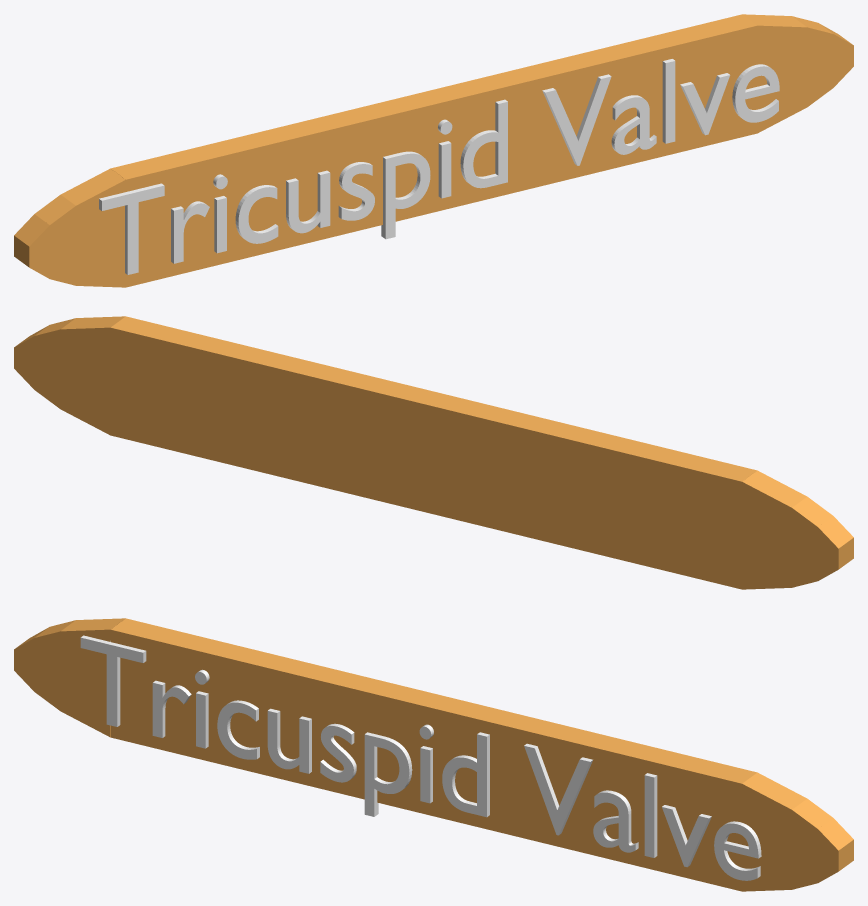
File: txtTricuspidValve.fbx
3 views of the same model, one above another, from view 1: azimuth 30°, elevation 25°; view 2: azimuth 150°, elevation 25°; view 3: azimuth 330°, elevation 25° (orthographic).
Parts seen in each view (by area): view 1: TagContainer.037, Text.038; view 2: TagContainer.037; view 3: TagContainer.037, Text.038.
Part boxes in pixels (x1,y1,x2,y2): TagContainer.037: [14, 14, 853, 287]; Text.038: [99, 59, 779, 274]; TagContainer.037: [14, 316, 853, 589]; TagContainer.037: [14, 618, 853, 891]; Text.038: [80, 635, 761, 880].
Bounding box in the file's own units: 330 × 46.03 × 12.69.
